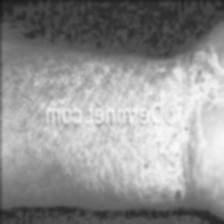Non-Cancerous Skin Condition: (51, 52, 213, 102), (52, 131, 154, 167), (157, 128, 189, 200)
